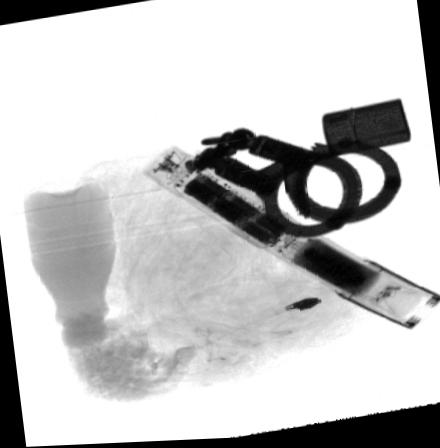Baton: (144, 147, 440, 333)
HandCuffs: (190, 129, 404, 242)
Lighter: (320, 103, 412, 160)
